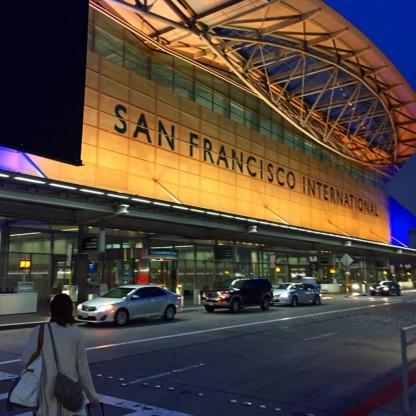Car: (75, 285, 183, 327), (202, 277, 275, 314), (275, 283, 322, 307), (372, 279, 402, 298)
